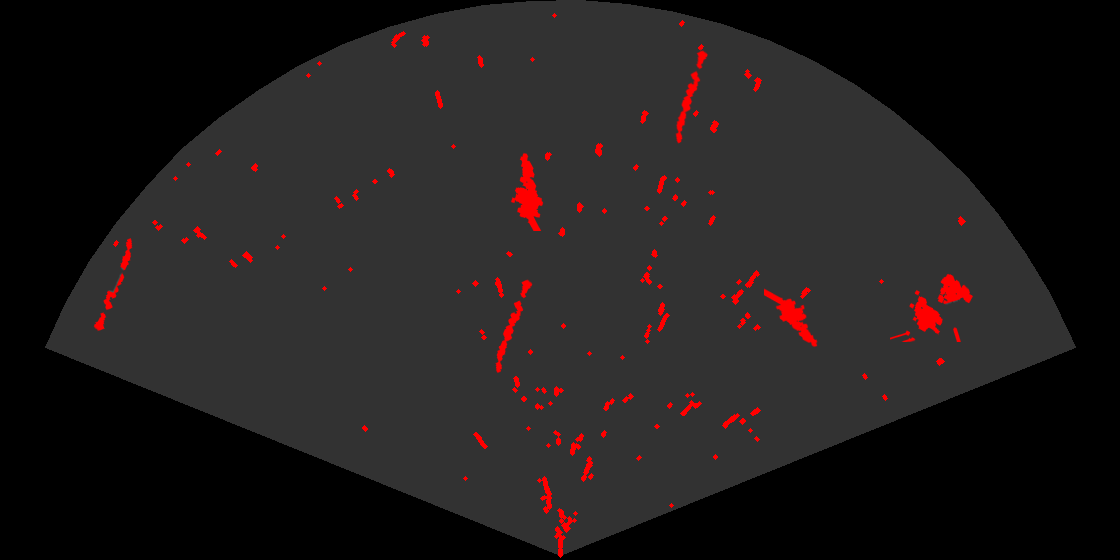cage: (890, 272, 975, 342)
chain: (92, 237, 134, 333), (494, 278, 534, 374), (674, 48, 710, 145)
frogman: (764, 287, 819, 349), (509, 152, 545, 231)
